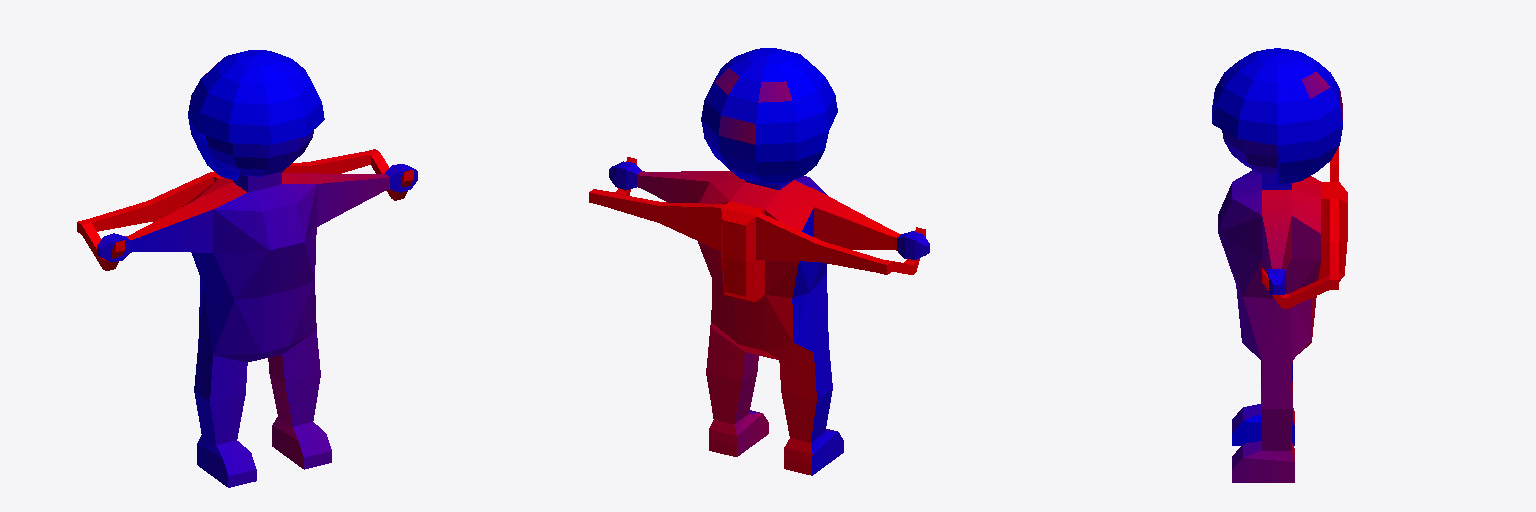
3 renders of one model, left to right at view 1: azimuth 30°, elevation 25°; view 2: azimuth 150°, elevation 25°; view 3: azimuth 270°, elevation 25°, orthographic.
Parts seen in each view (by area): view 1: polySurface2; view 2: polySurface2; view 3: polySurface2.
Boxes of the visible parts, box(x1,y1,x2,y2) form: polySurface2: box(77, 50, 417, 487); polySurface2: box(589, 48, 929, 475); polySurface2: box(1212, 48, 1347, 482).
Bounding box in the file's own units: 12.04 × 14.61 × 4.44.
Materials: 1 (1 with a texture image).